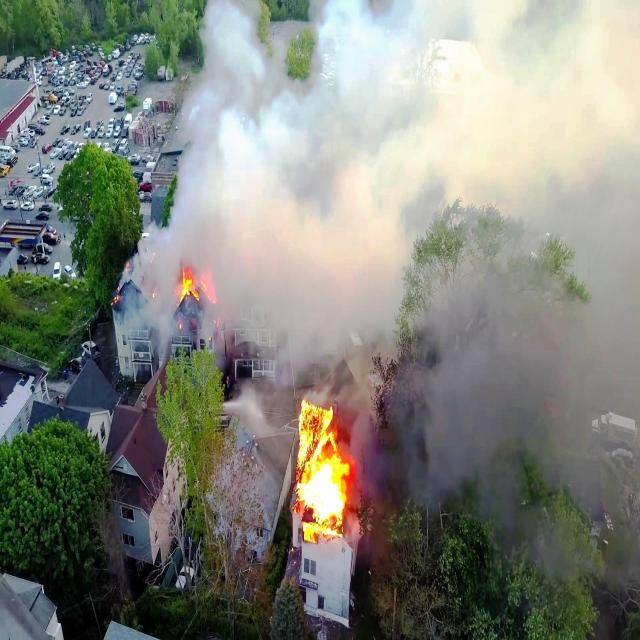Fire: (298, 404, 339, 548)
Smoke: (196, 152, 388, 276)
